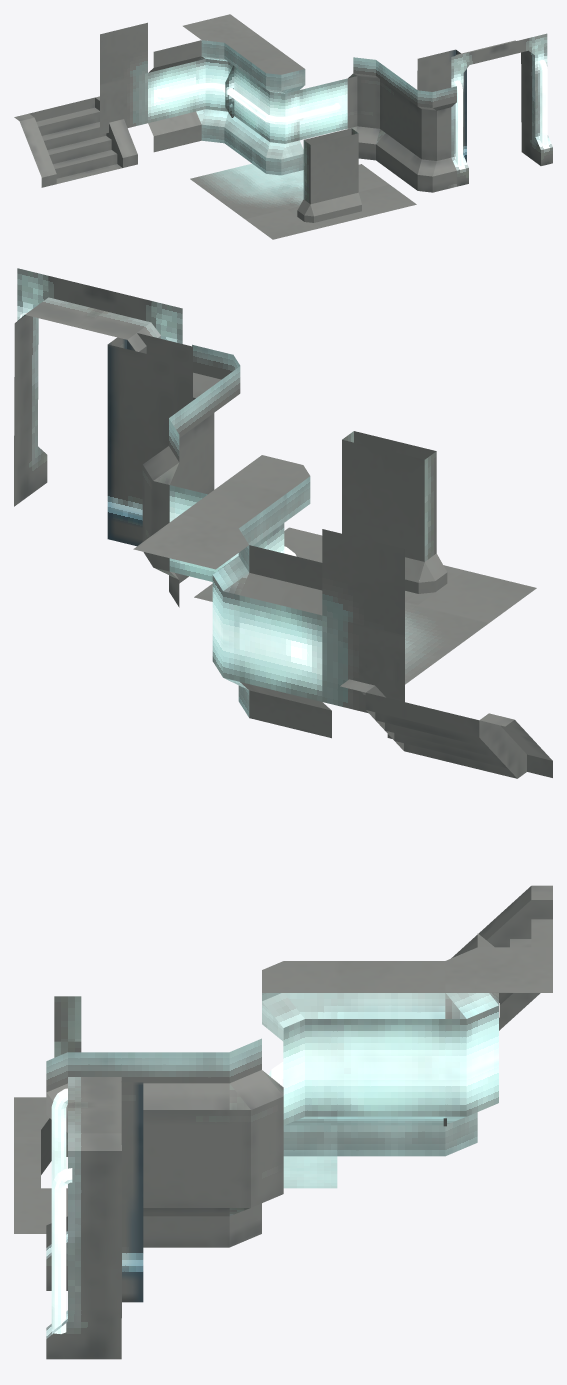
File: Tiles.gltf
3 views of the same model, one above another, from view 1: azimuth 30°, elevation 25°; view 2: azimuth 150°, elevation 25°; view 3: azimuth 270°, elevation 25° (orthographic). The views are drawn at different scales.
Visible parts, largest first — view 1: Door, LladderCenter, Glass, LightWallStart, LightWallEnd, AngleLightA, LightA, LightExternalWall, ExternalWall, InternalWall, GlassWall, LladderRight (+30 smaller); view 2: Door, DoorLeaf, Glass, LightWallStart, AngleLightA, LightA, GlassEnd, LladderCenter, LightAUpSkirting, InternalCutFloor, LladderLeft, InternalLightFloor (+18 smaller); view 3: Door, LightWall, Wall, UpSkirting, LightExternalWall, InternalWall, LightInternalWall, DoorLeaf, InternalCutFloor, LightDownSkirting, CutFloor, DownSkirting (+16 smaller).
Part boxes in pixels (x1,y1,x2,y2): Door: [451, 33, 552, 186]; LladderCenter: [38, 99, 113, 181]; Glass: [303, 128, 358, 195]; LightWallStart: [148, 61, 199, 122]; LightWallEnd: [299, 78, 347, 140]; AngleLightA: [100, 22, 147, 84]; LightA: [100, 73, 147, 134]; LightExternalWall: [255, 86, 303, 143]; ExternalWall: [413, 103, 451, 160]; InternalWall: [347, 76, 385, 132]; GlassWall: [293, 183, 368, 227]; LladderRight: [86, 96, 137, 169]; Door: [14, 268, 182, 506]; DoorLeaf: [107, 333, 192, 546]; Glass: [342, 431, 436, 546]; LightWallStart: [239, 595, 322, 701]; AngleLightA: [322, 529, 404, 635]; LightA: [322, 615, 404, 713]; GlassEnd: [407, 553, 536, 622]; LladderCenter: [381, 696, 501, 774]; LightAUpSkirting: [240, 545, 322, 615]; InternalCutFloor: [133, 514, 248, 569]; LladderLeft: [464, 713, 552, 778]; InternalLightFloor: [405, 603, 488, 657]; Door: [46, 1077, 121, 1359]; LightWall: [337, 1019, 445, 1116]; Wall: [143, 1110, 229, 1207]; UpSkirting: [121, 1052, 229, 1109]; LightExternalWall: [268, 1019, 337, 1125]; InternalWall: [229, 1096, 283, 1207]; LightInternalWall: [445, 1005, 498, 1116]; DoorLeaf: [121, 1082, 143, 1302]; InternalCutFloor: [445, 947, 552, 992]; LightDownSkirting: [337, 1116, 445, 1156]; CutFloor: [337, 961, 445, 992]; DownSkirting: [143, 1208, 229, 1247].
Size of the model in its own units: 8.5 by 2.5 by 5.
1 material, 1 textured.
